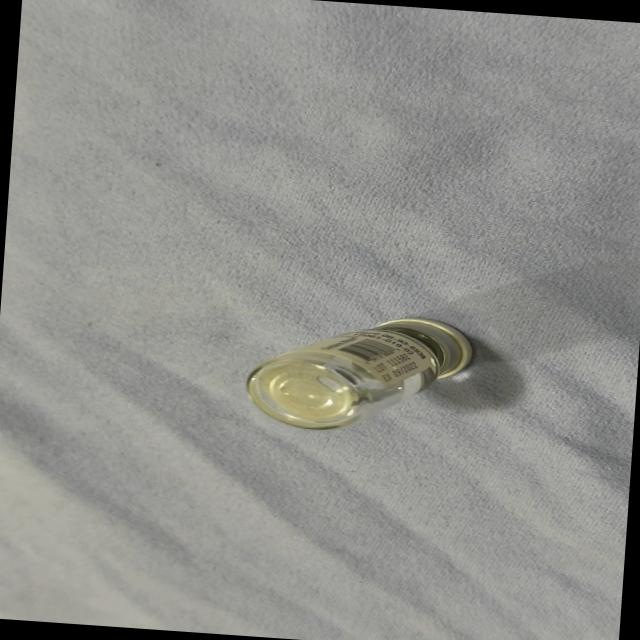fentanl_citrat: (246, 308, 472, 437)
